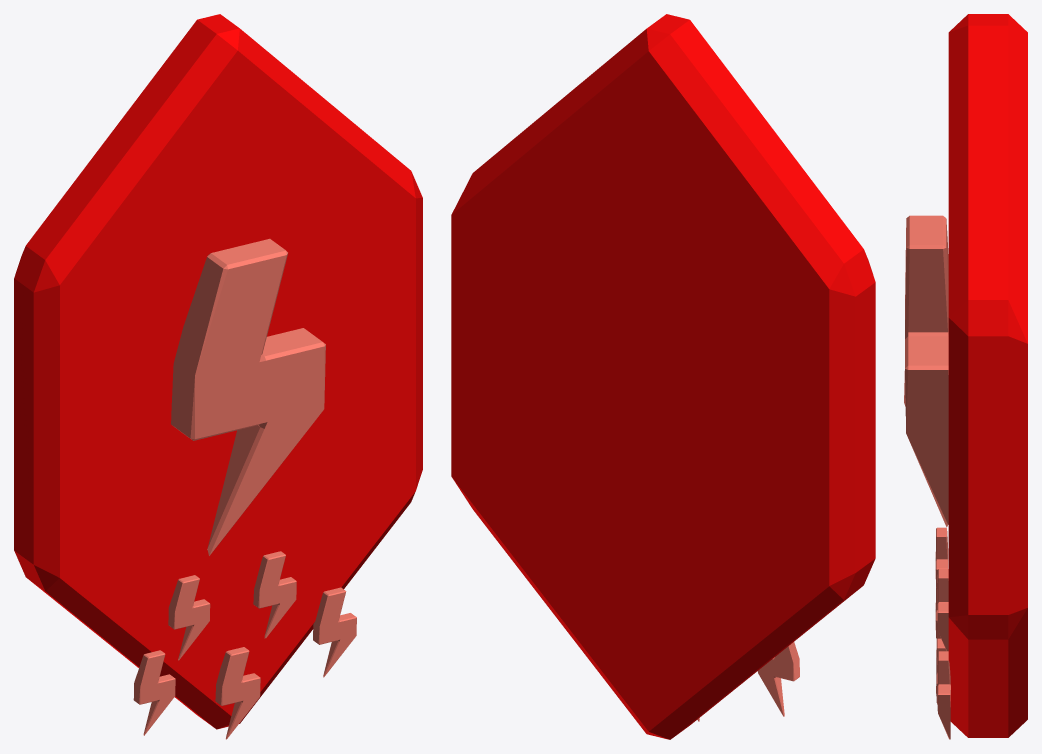
The model's file is power_powerup.fbx.
3 views of the same model, side by side, from view 1: azimuth 30°, elevation 25°; view 2: azimuth 150°, elevation 25°; view 3: azimuth 270°, elevation 25° (orthographic). The views are drawn at different scales.
Parts seen in each view (by area): view 1: Plane.009, Cube.016, Cube.017, Cube.019, Cube.018, Cube.020, Cube.015; view 2: Plane.009, Cube.020; view 3: Plane.009, Cube.016, Cube.019, Cube.018, Cube.015.
Boxes of the visible parts, box(x1,y1,x2,y2) form: Plane.009: box(14, 14, 422, 729); Cube.016: box(171, 238, 325, 555); Cube.017: box(215, 647, 260, 739); Cube.019: box(313, 587, 356, 677); Cube.018: box(253, 551, 296, 638); Cube.020: box(133, 650, 175, 735); Cube.015: box(168, 575, 210, 660); Plane.009: box(451, 14, 875, 739); Cube.020: box(757, 642, 799, 716); Plane.009: box(948, 14, 1027, 737); Cube.016: box(904, 215, 948, 527); Cube.019: box(937, 651, 950, 739); Cube.018: box(937, 569, 948, 651); Cube.015: box(935, 527, 948, 589).
Bounding box in the file's own units: 4 × 6.87 × 1.08.
